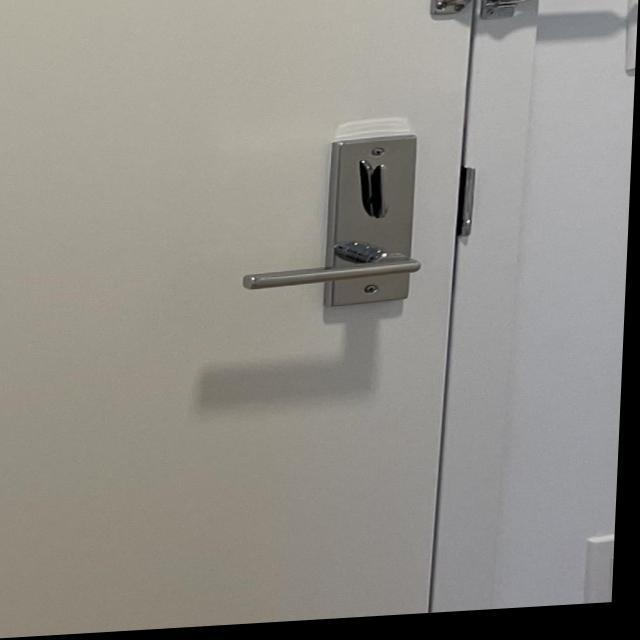door_handle: (218, 241, 438, 309)
